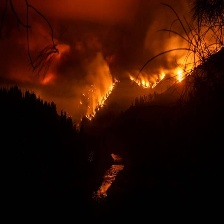fire: (90, 84, 115, 117), (129, 73, 168, 89), (174, 64, 184, 85)
smoke: (13, 1, 215, 75)
